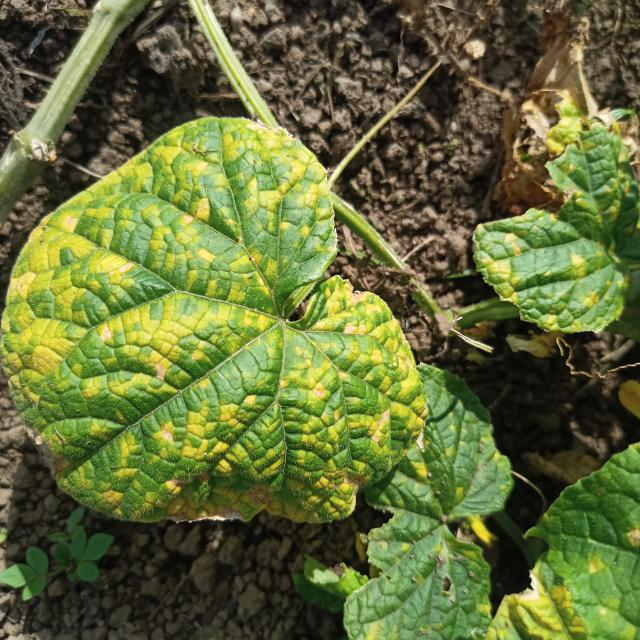disease_cucumber: (16, 123, 412, 532)
